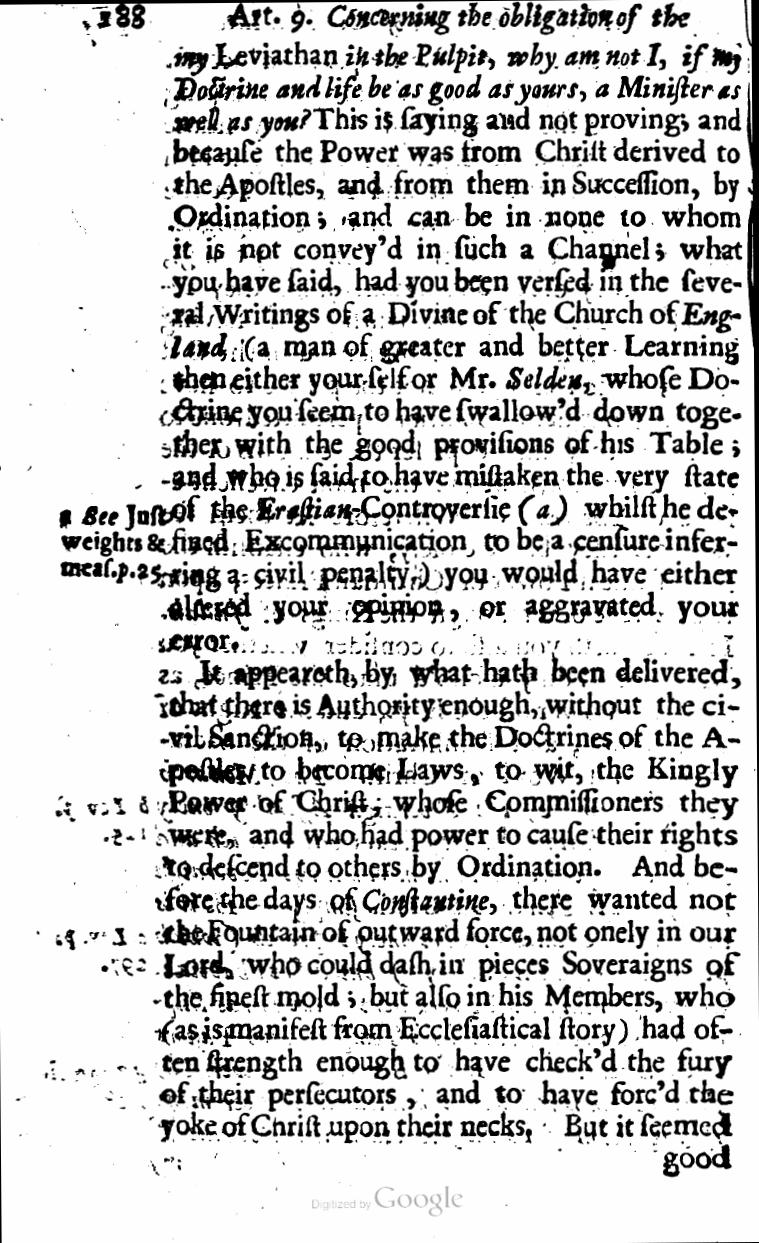bottom_p: (169, 40, 745, 655)
catchword: (662, 1144, 734, 1179)
header: (225, 2, 694, 36)
page_num: (94, 4, 150, 34)
print_marg: (55, 501, 167, 586)
top_p: (156, 657, 742, 1142)
